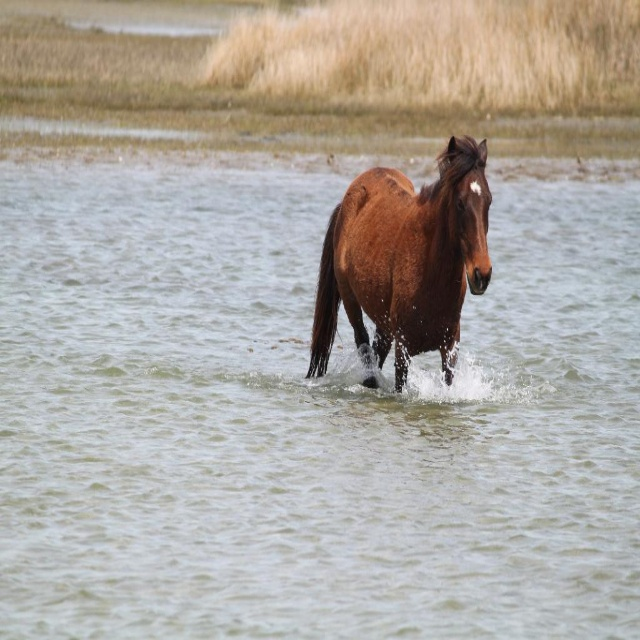Horse: (306, 131, 493, 393)
